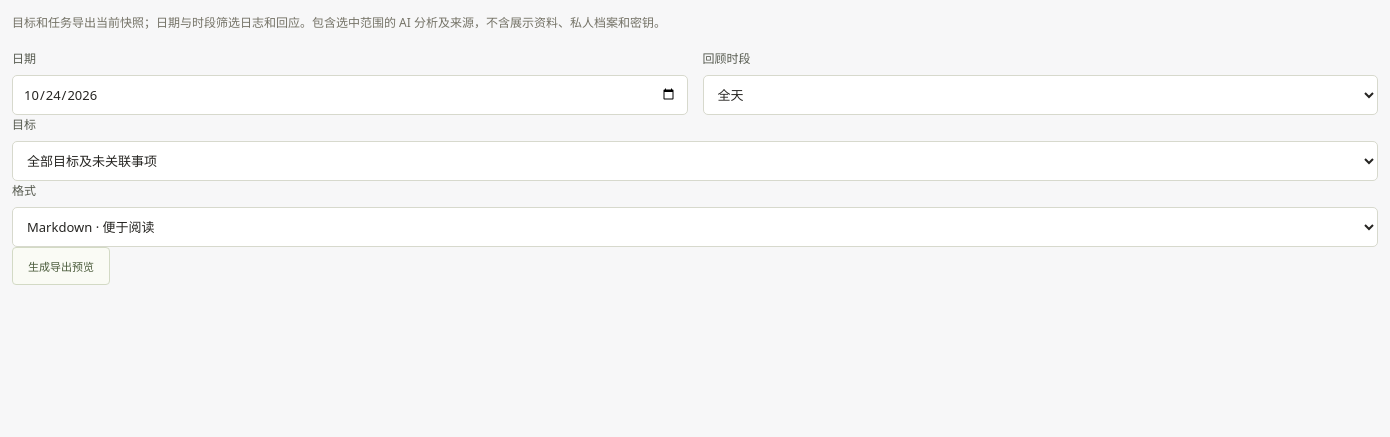
Test: discards an export response when filters change while it is loading
Click the button "生成导出预览".
click(61, 266)  # box [12,247,110,285]
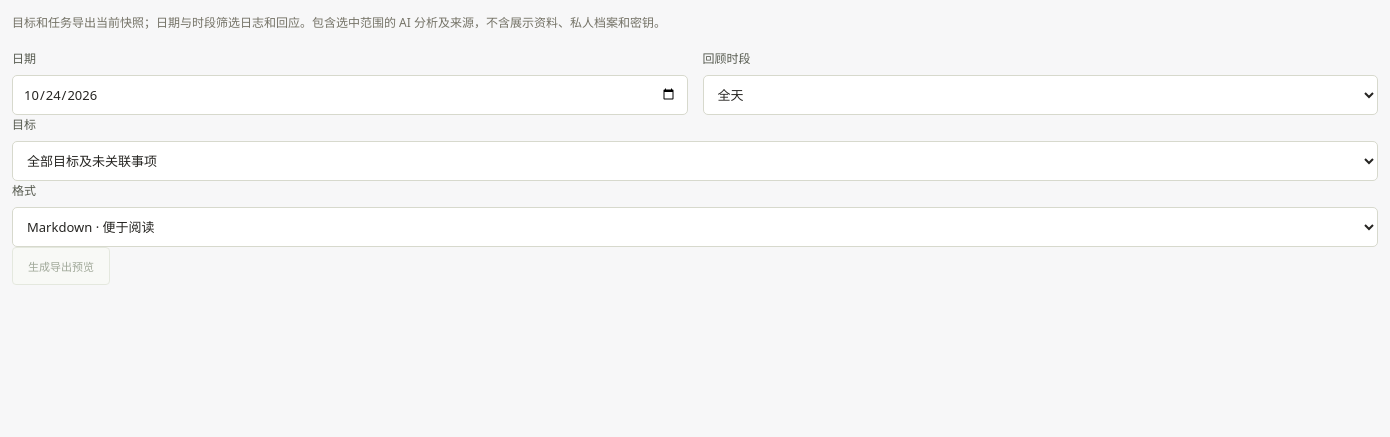
Select "阅读计划" in the dropdown labelled "目标" at x=695, y=161, box [12,141,1378,181]
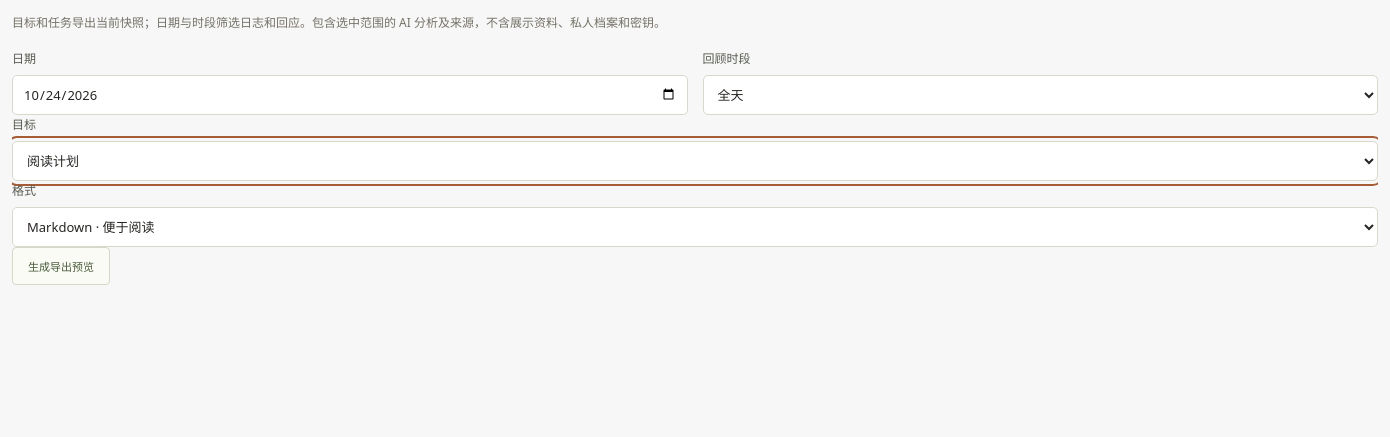
Expected: the button "下载文件" is not shown
Click the button "生成导出预览".
click(61, 266)  # box [12,247,110,285]
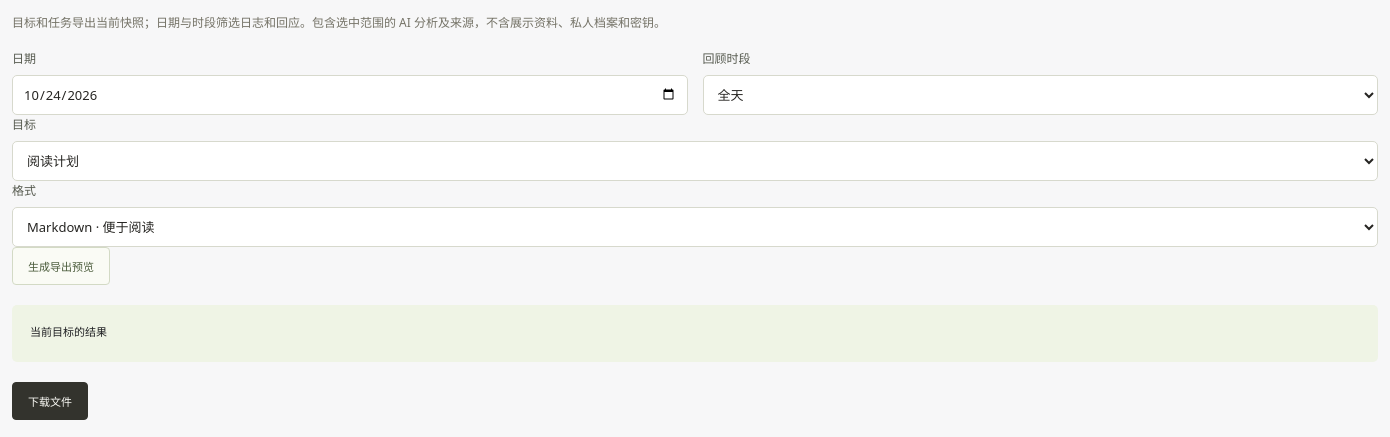
Now the text "当前目标的结果" is shown, box [12,305,1378,362]
